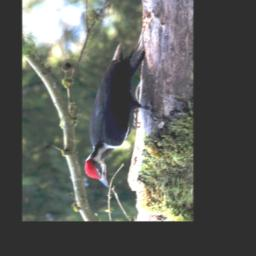Woodpecker: (84, 31, 163, 189)
